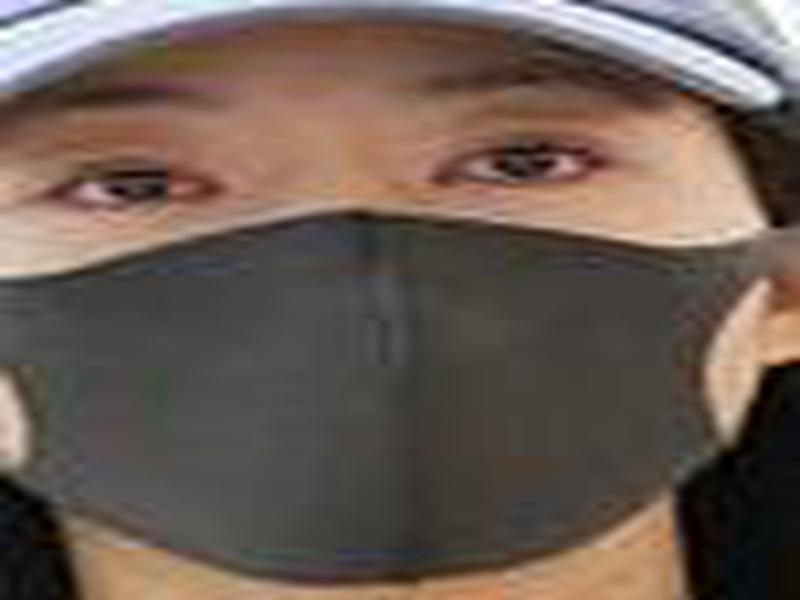with_mask: (1, 2, 791, 590)
